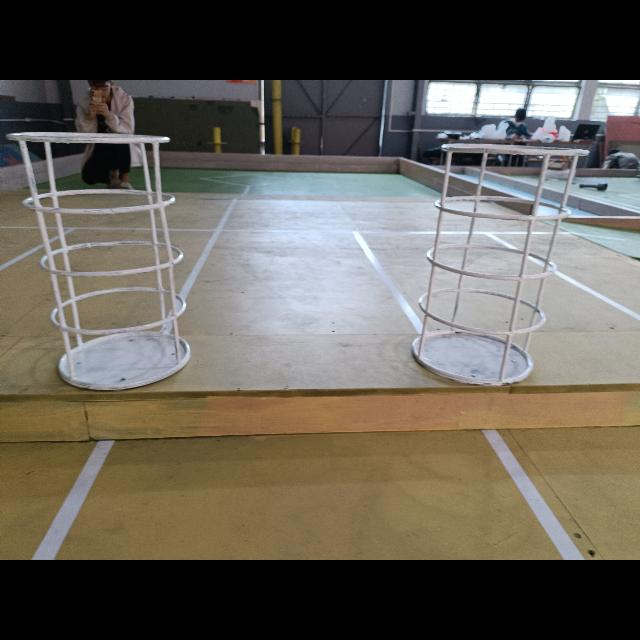S: (5, 132, 192, 390), (413, 142, 591, 385)
